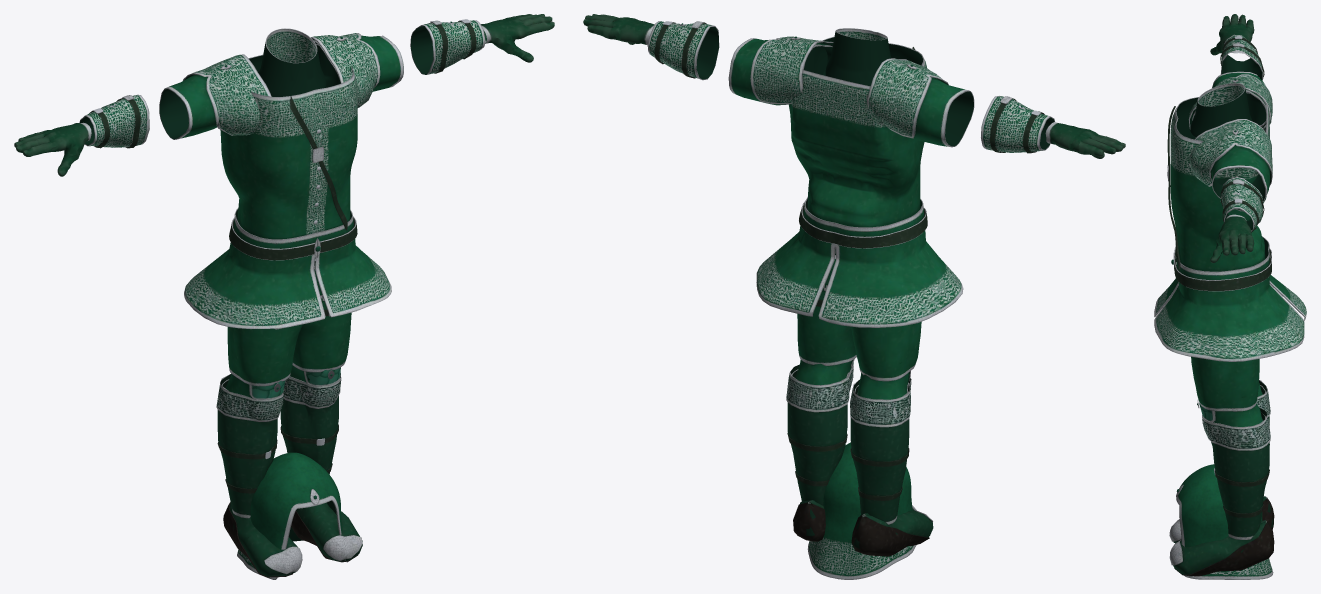
Rendered from light_emerald.glb.
The picture shows the model from 3 angles, left to right: view 1: azimuth 30°, elevation 25°; view 2: azimuth 150°, elevation 25°; view 3: azimuth 270°, elevation 25°; orthographic projection. The views are drawn at different scales.
Parts seen in each view (by area): view 1: chest, feet, gloves, legs, hood; view 2: chest, feet, gloves, legs, hood; view 3: chest, feet, gloves, legs, hood.
Boxes of the visible parts, box(x1,y1,x2,y2) form: chest: box(159, 28, 403, 328); feet: box(216, 373, 362, 577); gloves: box(14, 14, 554, 176); legs: box(225, 261, 351, 399); hood: box(237, 452, 347, 579); chest: box(728, 28, 974, 327); feet: box(786, 364, 933, 556); gloves: box(583, 14, 1125, 158); legs: box(795, 249, 921, 399); hood: box(807, 442, 916, 579); chest: box(1154, 71, 1306, 361); feet: box(1169, 380, 1274, 576); gloves: box(1210, 14, 1264, 262); legs: box(1191, 357, 1262, 426); hood: box(1176, 464, 1273, 579).
Size of the model in its own units: 1.8 by 1.7 by 0.4879.
5 materials, 5 textured.
